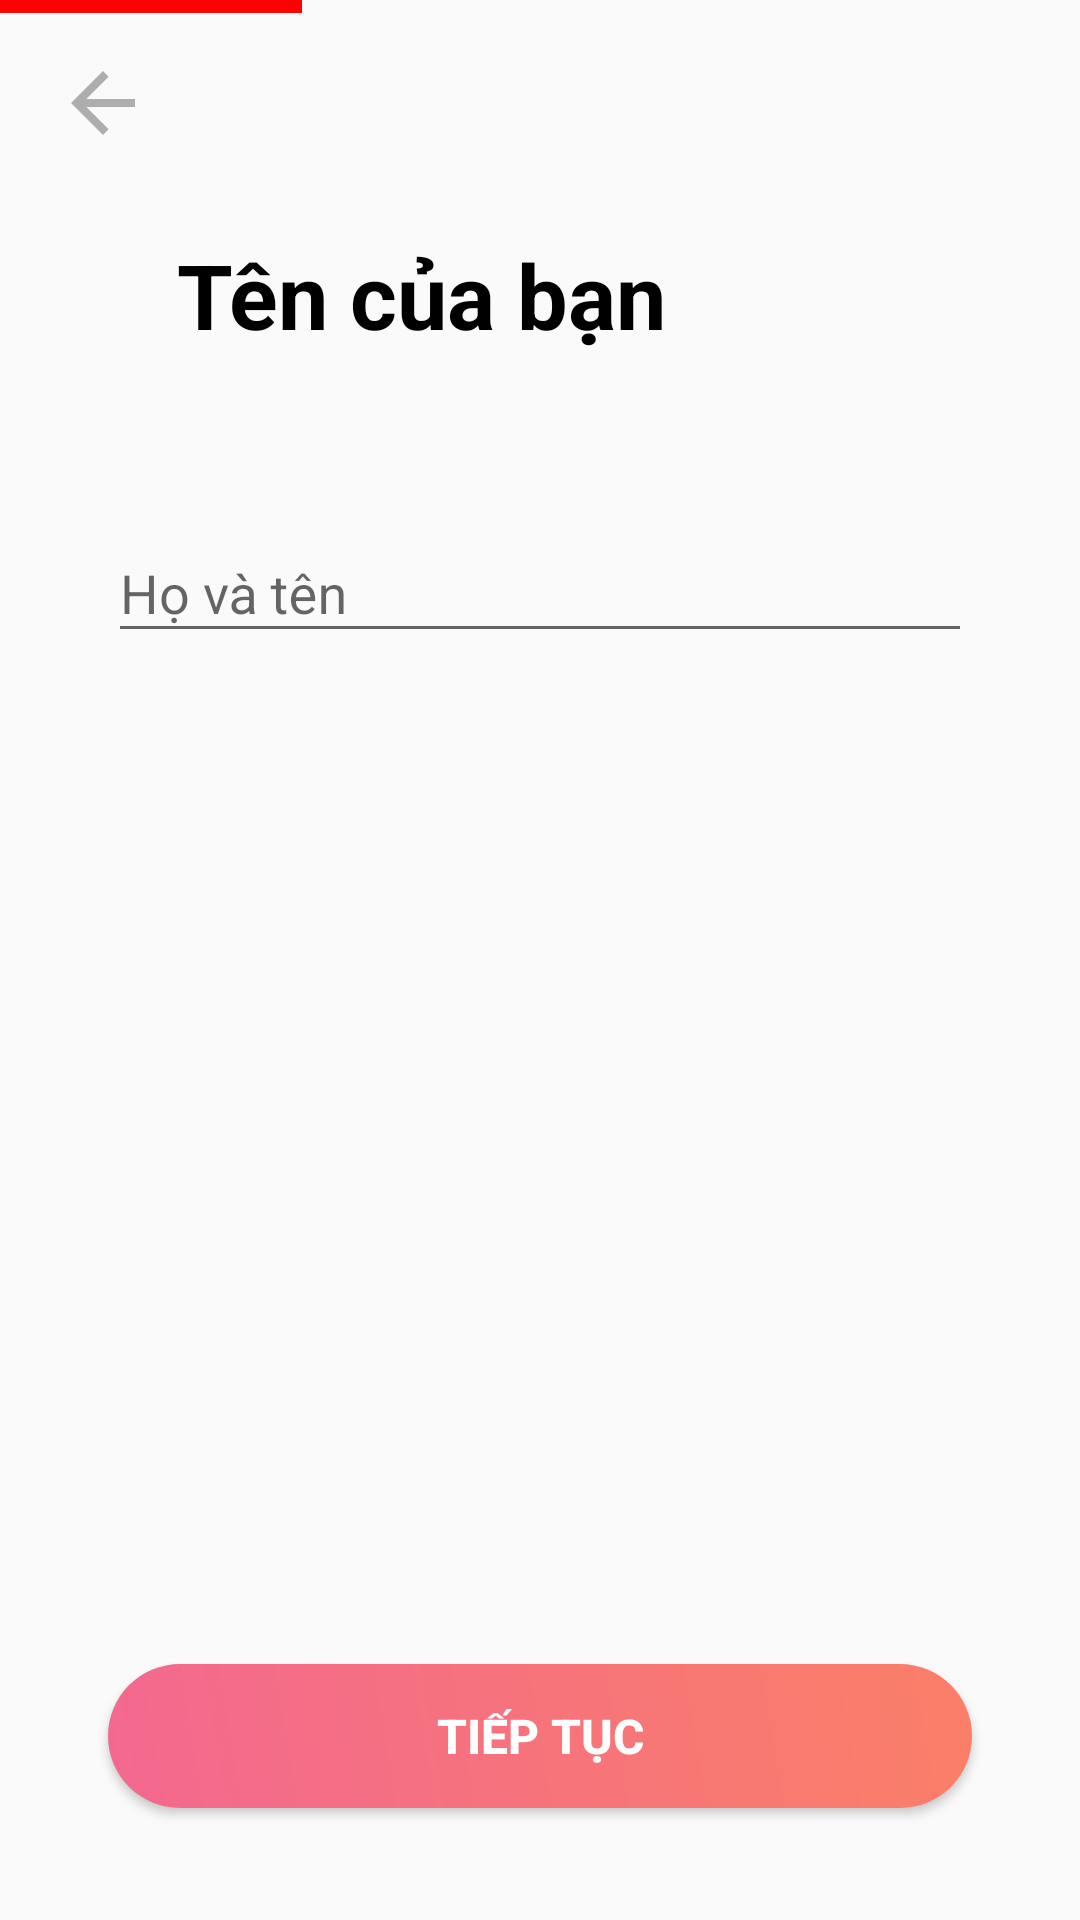

Locate icon controls on the screen. Image size 1080w x 1920h, boxes as detection(x1, y1, x2, y2).
arrow back: detection(71, 71, 135, 135)
